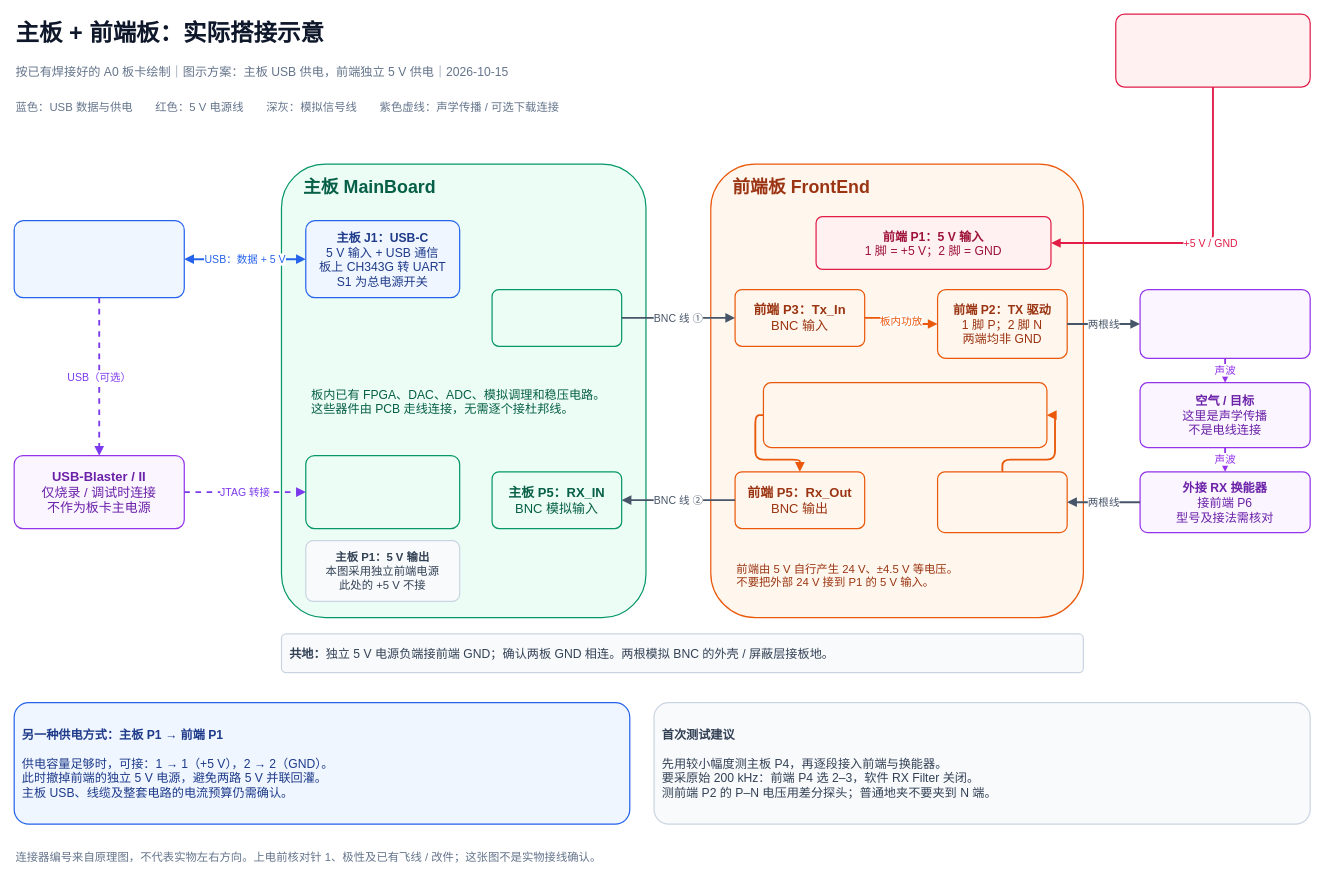
Image size: 1325x885. Some labels were removed from this diagram. Here are the shapes that lost their labels. From the top down, the box of each, then its label:
(1115, 13, 1310, 87): 独立稳压 5 V 电源 使用可限流电源调试 电流容量按实际负载核定
(13, 220, 185, 298): 电脑 原版上位机 / COM USB 数据线
(491, 289, 622, 347): 主板 P4：TX_OUT BNC 模拟输出
(1139, 289, 1310, 359): 外接 TX 换能器 接前端 P2 的 P / N 两端 200 kHz 频响需确认
(762, 382, 1047, 448): 前端 P4：混频选择跳线 2–3：原始 RX；1–2：混频 RX 接收缓冲 / 放大也在这块板上
(305, 455, 460, 529): 主板 P2：JTAG 专用 6 针接口 按信号名制作转接线
(937, 471, 1067, 533): 前端 P6：RX 输入 1 脚信号；2 脚 GND
